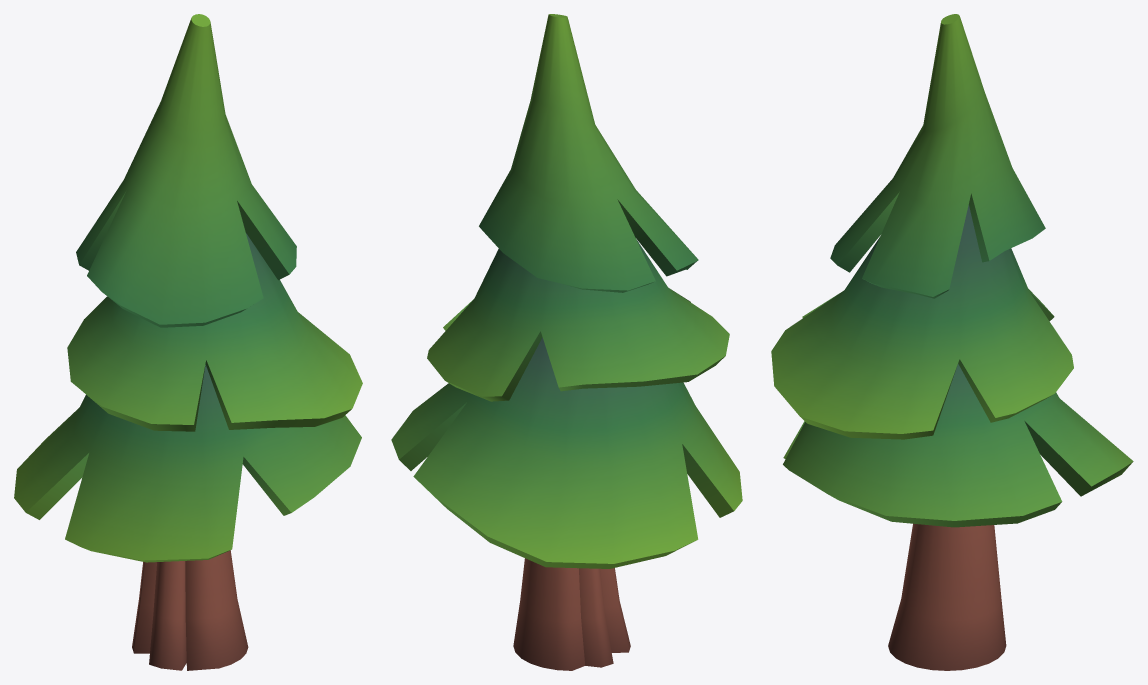
Rendered from Pine_Tree_04.fbx.
3 views of the same model, side by side, from view 1: azimuth 30°, elevation 25°; view 2: azimuth 150°, elevation 25°; view 3: azimuth 270°, elevation 25° (orthographic).
Parts seen in each view (by area): view 1: Pine_Tree_04; view 2: Pine_Tree_04; view 3: Pine_Tree_04.
Part boxes in pixels (x1=…): Pine_Tree_04: x1=14, y1=14, x2=362, y2=670; Pine_Tree_04: x1=391, y1=14, x2=742, y2=670; Pine_Tree_04: x1=771, y1=14, x2=1133, y2=670.
Bounding box in the file's own units: 386 × 771 × 398.
